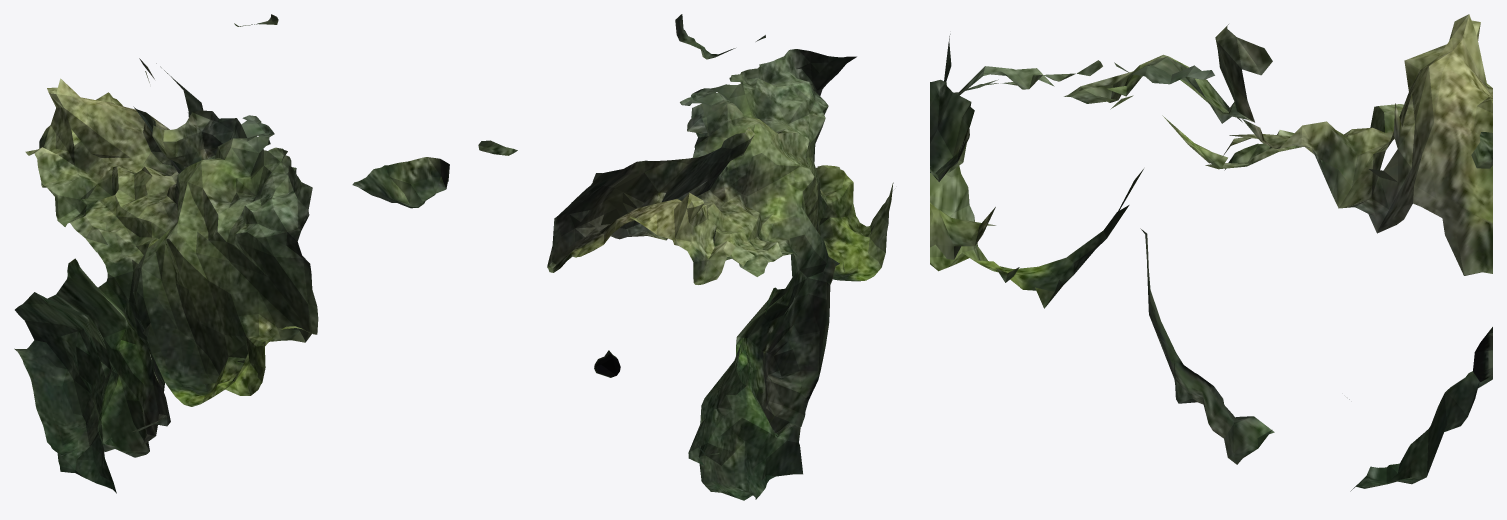
3 views of the same model, side by side, from view 1: azimuth 30°, elevation 25°; view 2: azimuth 150°, elevation 25°; view 3: azimuth 270°, elevation 25° (orthographic). The views are drawn at different scales.
Bounding box in the file's own units: 8.92 × 11.8 × 11.8.
3 materials, 3 textured.
